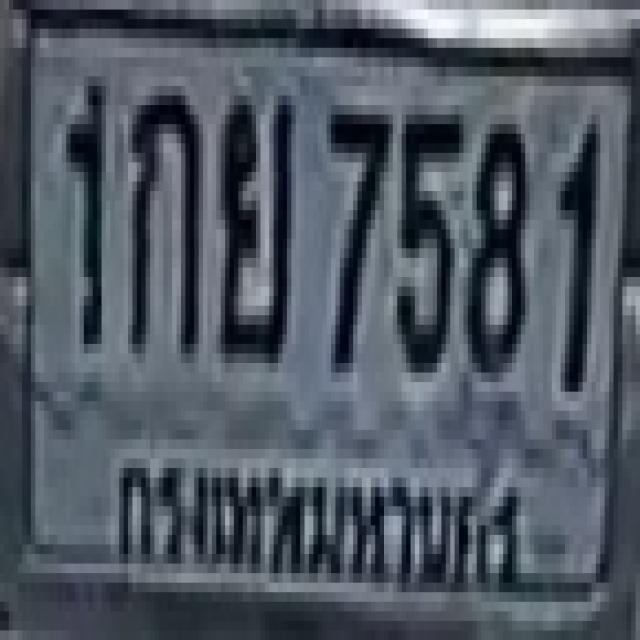-: (216, 86, 292, 353), (128, 86, 199, 344)
1: (556, 115, 596, 382), (62, 72, 101, 339)
5: (393, 105, 459, 363)
7: (326, 105, 388, 363)
8: (464, 115, 526, 363)
BKK: (102, 435, 525, 619)
